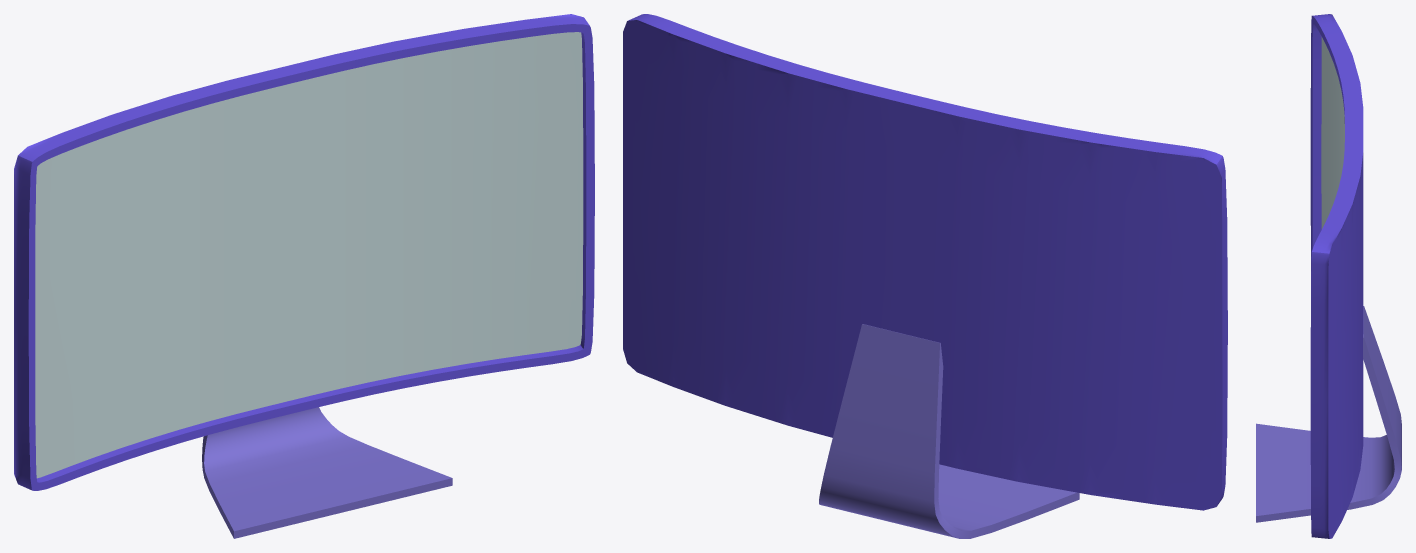
Rendered from screen.fbx.
3 views of the same model, side by side, from view 1: azimuth 30°, elevation 25°; view 2: azimuth 150°, elevation 25°; view 3: azimuth 270°, elevation 25° (orthographic). The views are drawn at different scales.
Visible parts, largest first — view 1: screen; view 2: screen; view 3: screen.
Boxes of the visible parts, <box> form: screen: <box>14,14,594,538</box>; screen: <box>623,14,1227,538</box>; screen: <box>1256,14,1401,538</box>.
Bounding box in the file's own units: 466 × 310 × 118.
